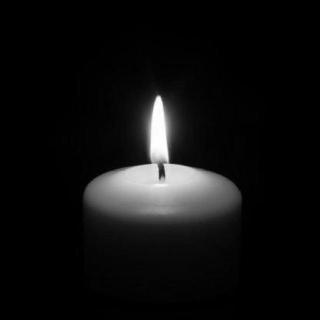Fire: (134, 82, 188, 185)
